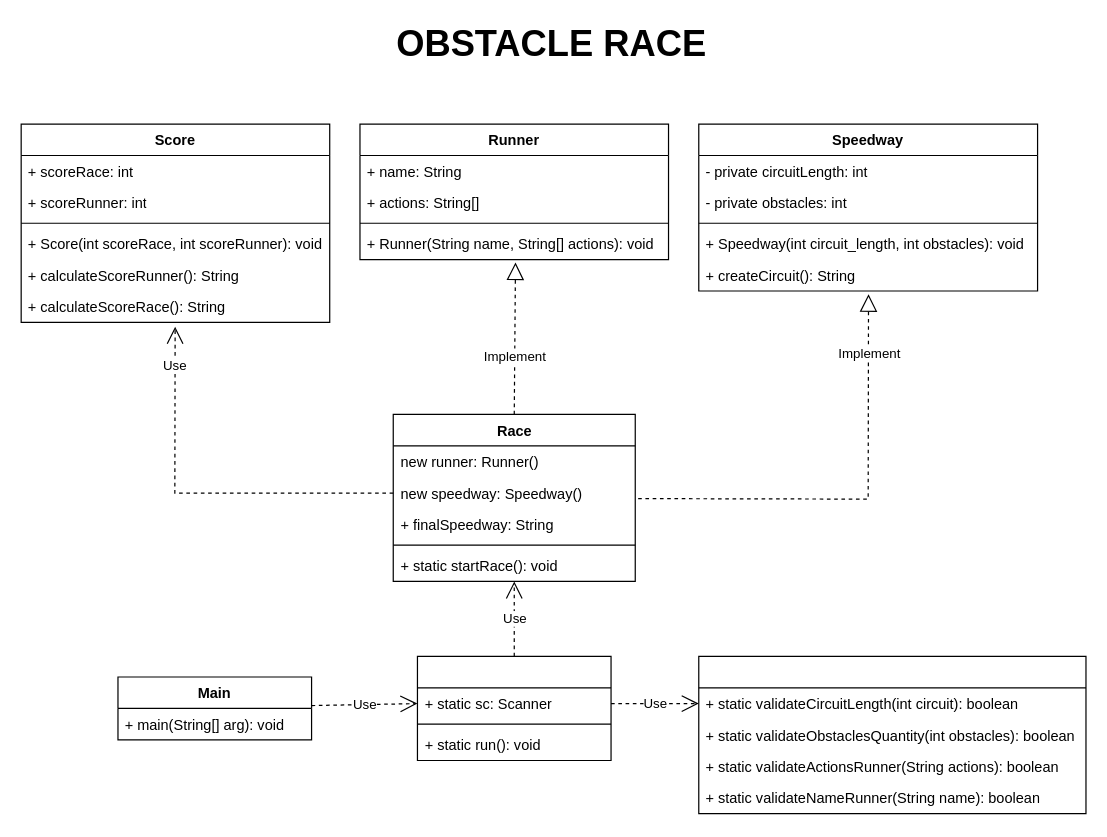
Some shapes in this 1107 by 837 pixel diagram are drawn without their labels. Here are the shapes that lost their labels. From the top down, the box of each, then its label:
(416, 655, 611, 760): UserInterface
(698, 655, 1086, 814): Validator
